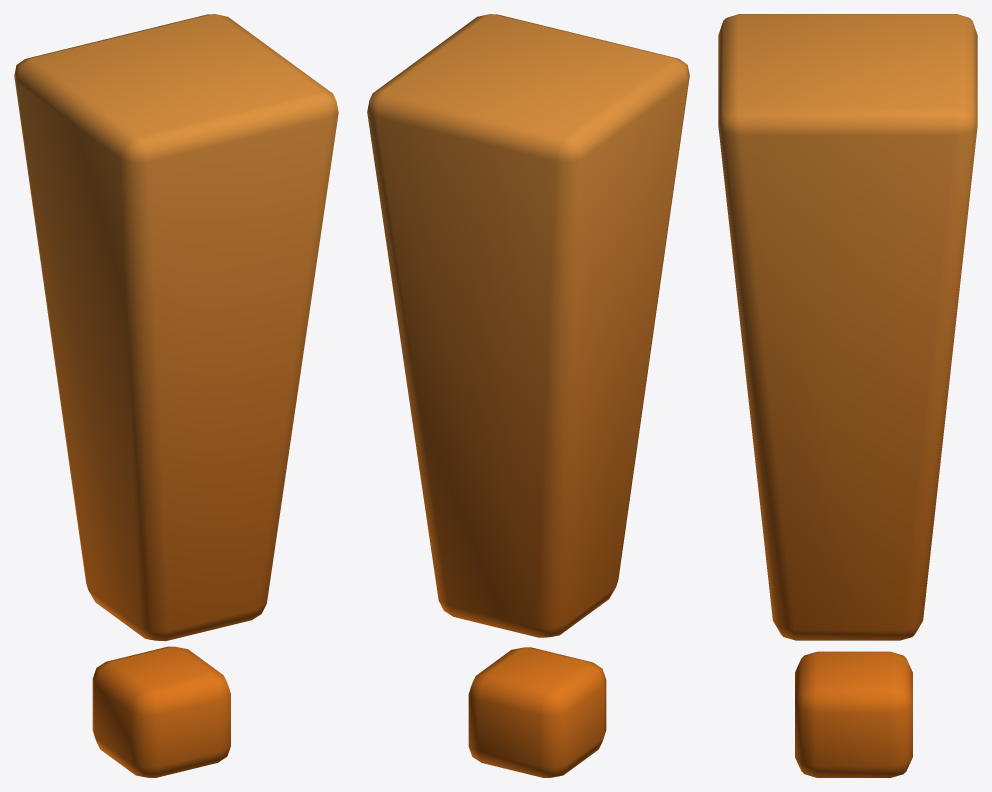
The model's file is SM_Icon_Asterix.fbx.
3 renders of one model, left to right at view 1: azimuth 30°, elevation 25°; view 2: azimuth 150°, elevation 25°; view 3: azimuth 270°, elevation 25°, orthographic. The views are drawn at different scales.
Parts seen in each view (by area): view 1: Cube; view 2: Cube; view 3: Cube.
Part boxes in pixels (left/top/right/bottom): Cube: left=14, top=14, right=338, bottom=777; Cube: left=367, top=14, right=689, bottom=777; Cube: left=718, top=14, right=977, bottom=777.
Bounding box in the file's own units: 46.92 × 141 × 46.92.
